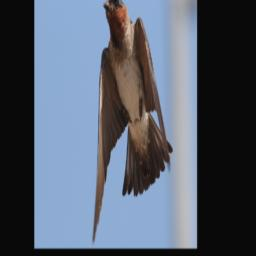Swallow: (92, 0, 172, 245)
